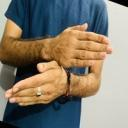hand: (40, 23, 113, 68), (5, 61, 72, 105)
